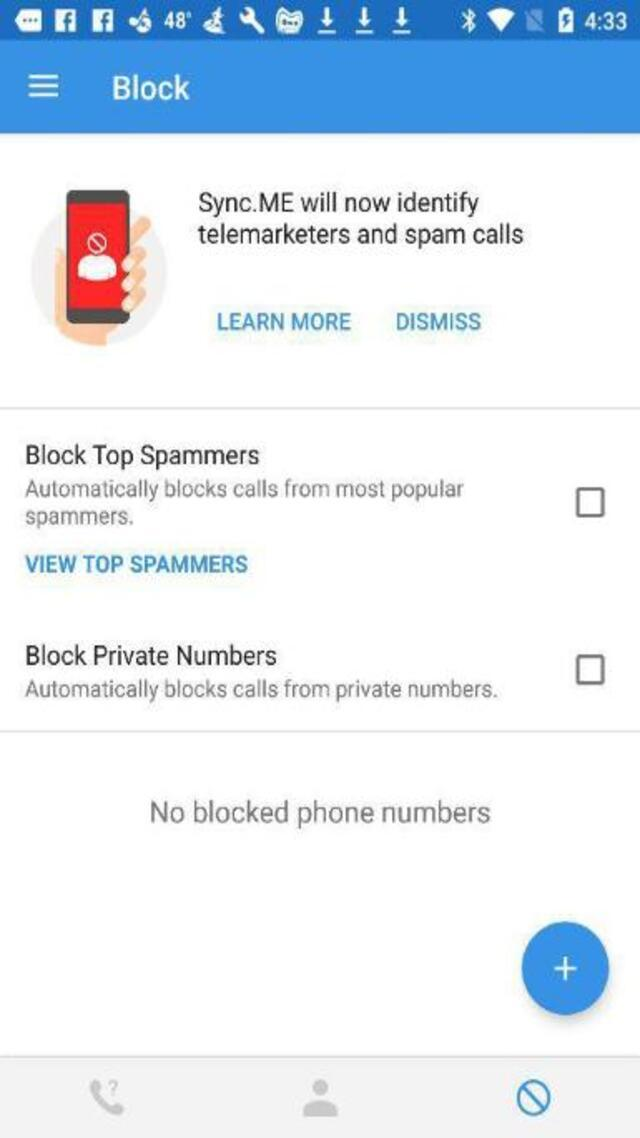CheckedTextView: (575, 486, 605, 516), (576, 654, 604, 684)
Icon: (520, 921, 610, 1014), (302, 1076, 340, 1115), (88, 1076, 125, 1115), (514, 1078, 550, 1116), (27, 73, 59, 98)
Image: (30, 190, 168, 348)
Text: (23, 476, 468, 504), (22, 677, 497, 702), (148, 798, 490, 827), (195, 222, 525, 250), (196, 190, 481, 218), (25, 442, 262, 473), (21, 642, 278, 668), (22, 553, 250, 577), (215, 310, 352, 333), (21, 506, 135, 530), (392, 310, 484, 335), (112, 73, 190, 101)
